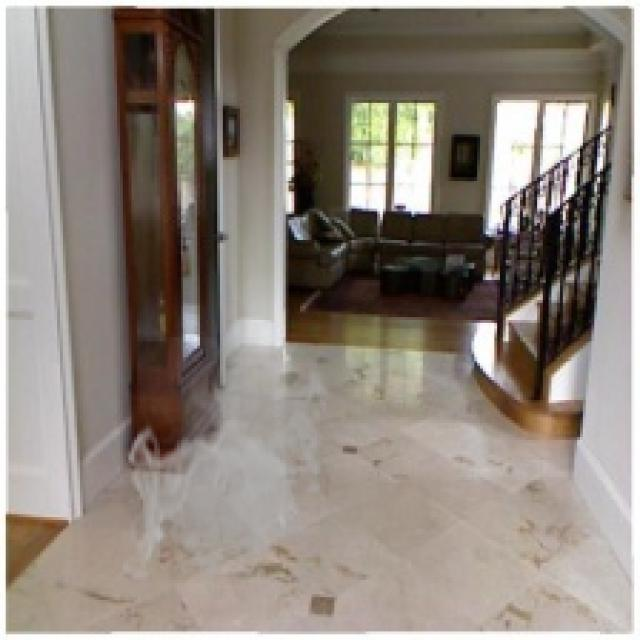Smoke: (123, 337, 334, 589)
